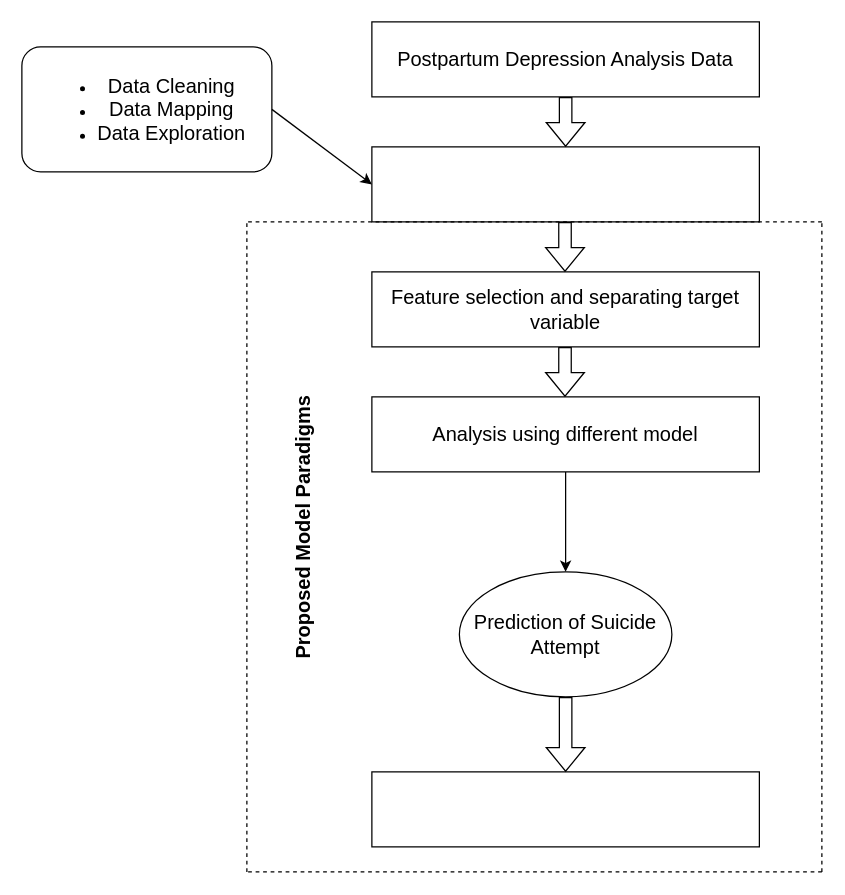
Some shapes in this 845 by 895 pixel diagram are drawn without their labels. Each missing label, with the centre of its shape:
"Data preprocessing" goes at (x=565, y=184).
"Performance evaluation" goes at (x=565, y=809).
